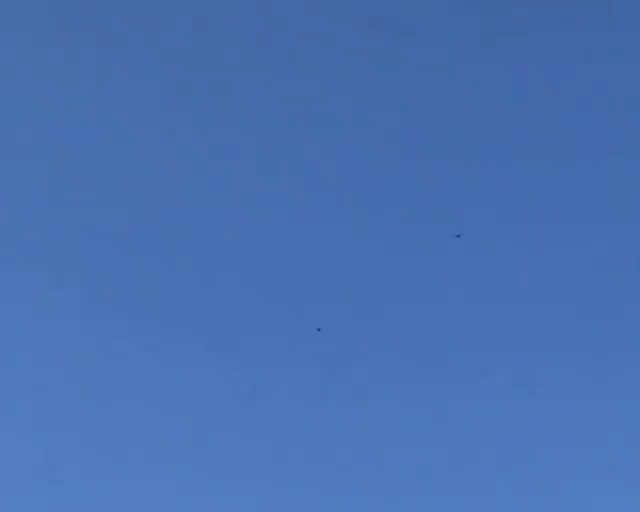BIRD: (454, 232, 462, 238)
